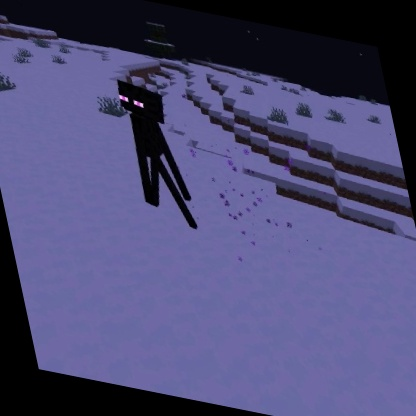enderman: (112, 76, 203, 234)
